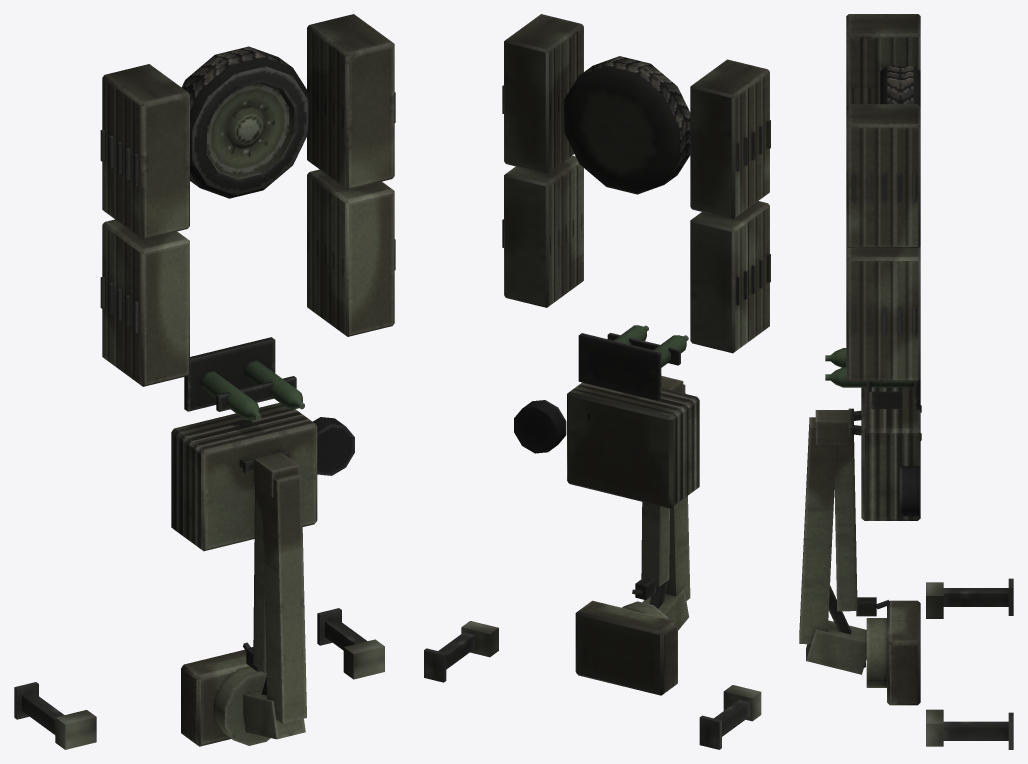
The model's file is hemtt_repair_module_pbr.glb.
3 renders of one model, left to right at view 1: azimuth 30°, elevation 25°; view 2: azimuth 150°, elevation 25°; view 3: azimuth 270°, elevation 25°, orthographic. The views are drawn at different scales.
Parts seen in each view (by area): view 1: hemtt_repair_module_pbr, hemtt_repair_module_pbr_spare_wheel; view 2: hemtt_repair_module_pbr, hemtt_repair_module_pbr_spare_wheel; view 3: hemtt_repair_module_pbr, hemtt_repair_module_pbr_spare_wheel.
Part boxes in pixels (left/top/right/bottom): hemtt_repair_module_pbr: left=14, top=14, right=395, bottom=749; hemtt_repair_module_pbr_spare_wheel: left=181, top=46, right=309, bottom=198; hemtt_repair_module_pbr: left=424, top=14, right=770, bottom=749; hemtt_repair_module_pbr_spare_wheel: left=564, top=56, right=690, bottom=194; hemtt_repair_module_pbr: left=799, top=14, right=1013, bottom=749; hemtt_repair_module_pbr_spare_wheel: left=880, top=65, right=920, bottom=105.
Bounding box in the file's own units: 3.39 × 6.77 × 2.14.
2 materials, 2 textured.
